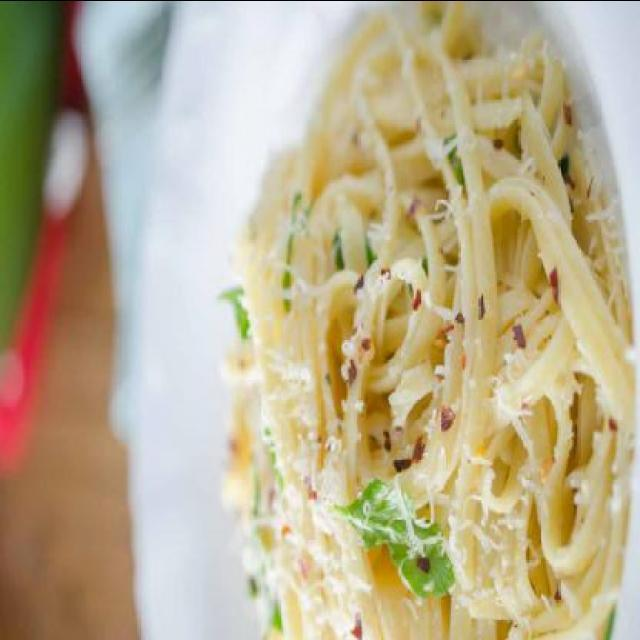Oil pasta: (196, 0, 610, 622)
